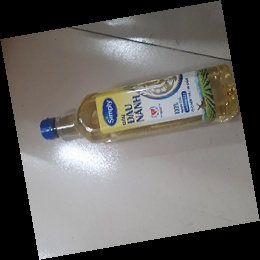Simply: (38, 63, 243, 144)
